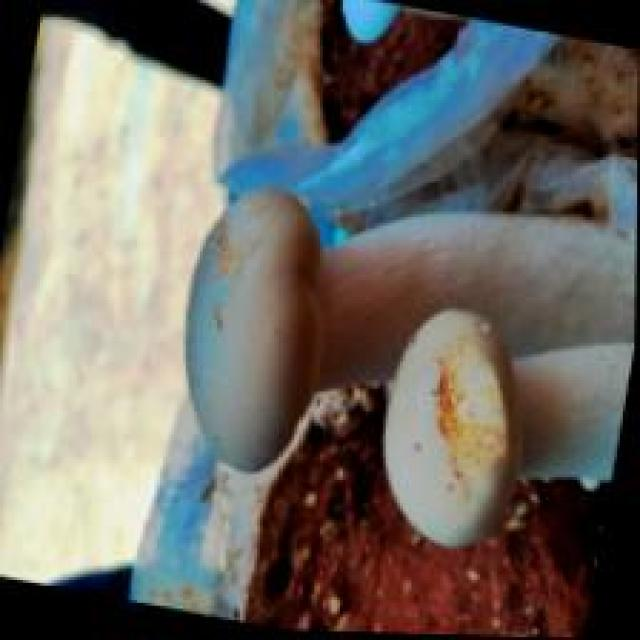death-cap: (383, 303, 526, 548)
